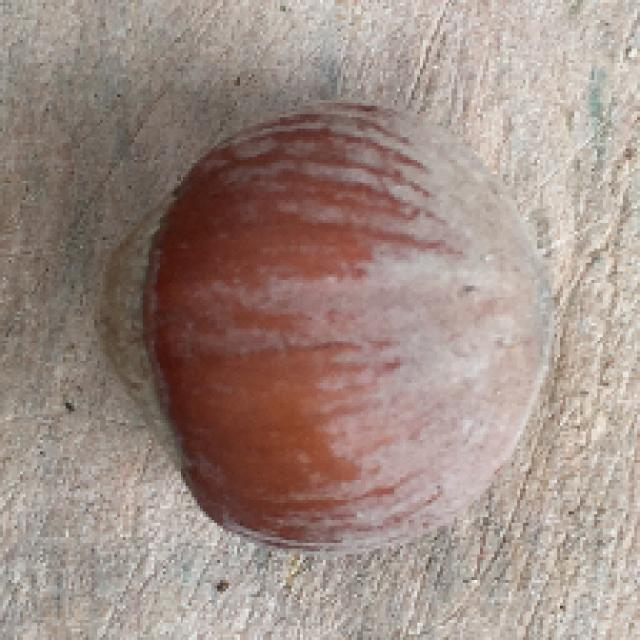qualityHazelnut: (95, 96, 558, 561)
